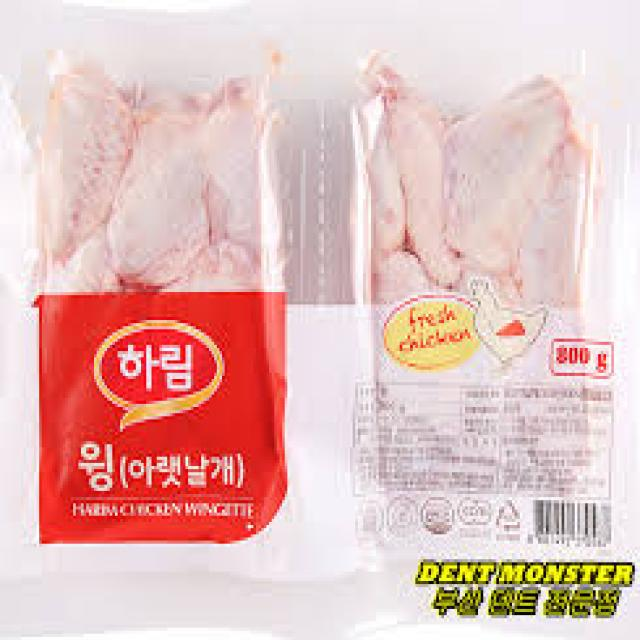chicken: (26, 53, 300, 541), (346, 57, 610, 380)
